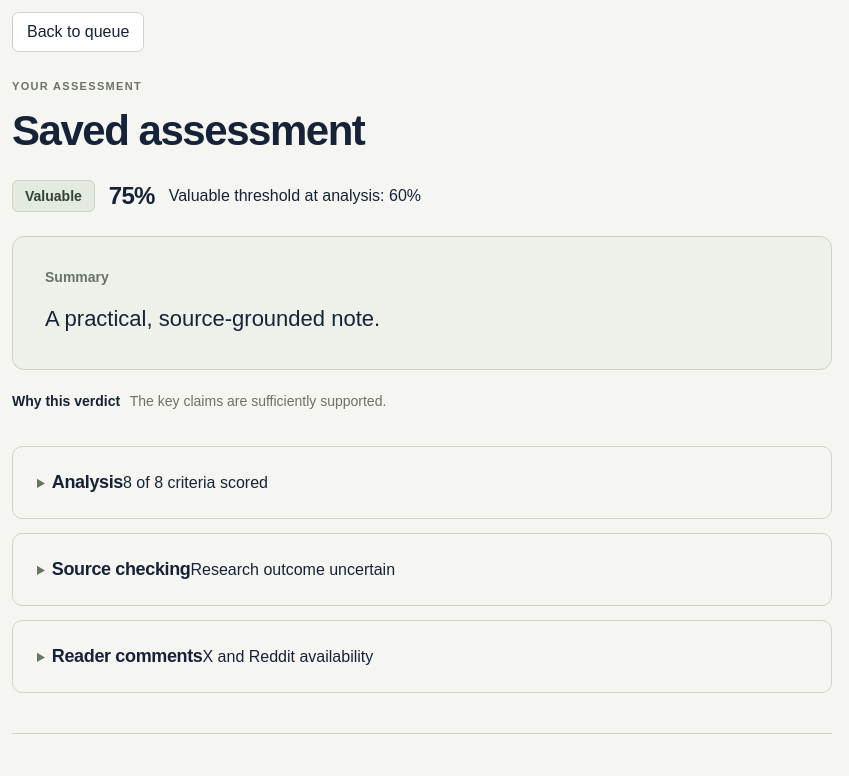
Scenario: keeps uncertain research status visible and explains its limitations when opened
Expected: the text "A practical, source-grounded note." is shown, x1=45 y1=306 x2=380 y2=330
Expected: the text "Research outcome uncertain" is shown, x1=190 y1=561 x2=395 y2=578
Click the heading "Source checking": point(121, 569) x1=52 y1=559 x2=190 y2=579
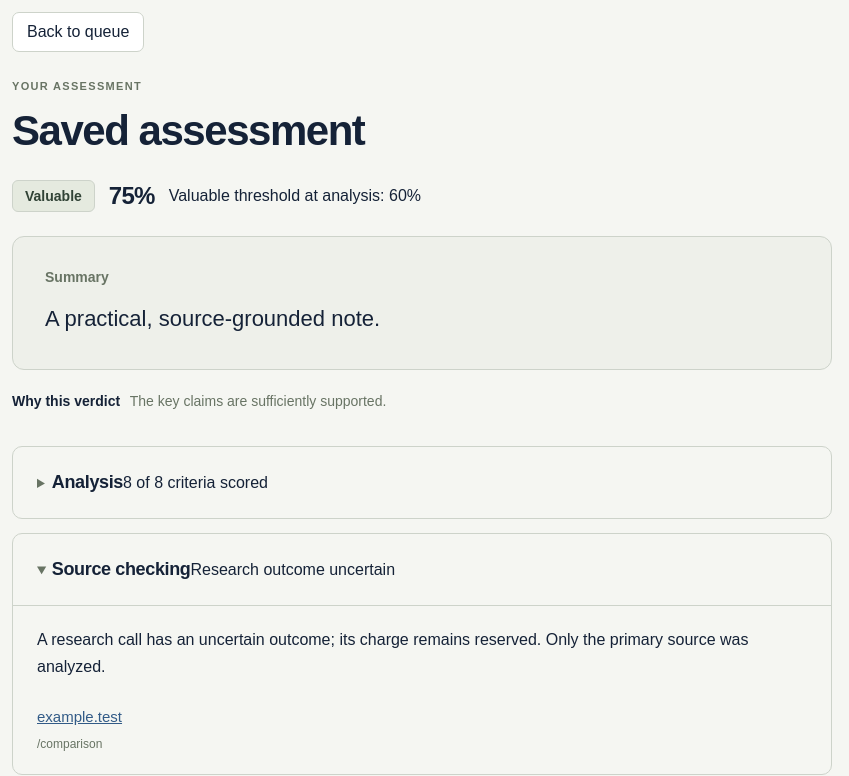
Expected: the text "charge remains reserved" is shown, x1=37 y1=631 x2=748 y2=675
